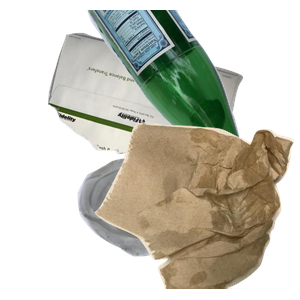glass: (75, 10, 300, 190)
paper: (45, 30, 281, 195)
plastic: (75, 154, 248, 300)
trash: (92, 120, 300, 300)
